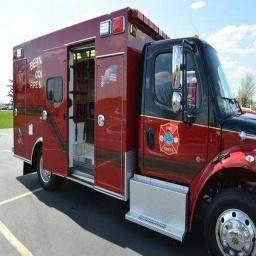ambulance: (13, 8, 255, 255)
